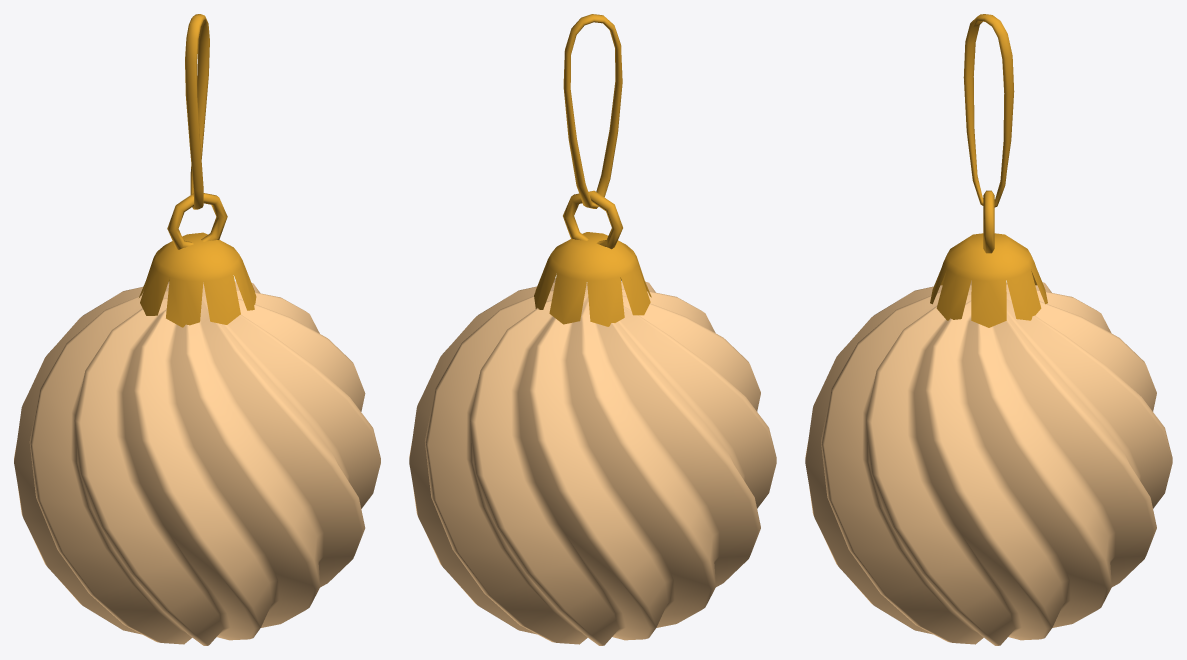
Rendered from Ball_Supporter.fbx.
3 views of the same model, side by side, from view 1: azimuth 30°, elevation 25°; view 2: azimuth 150°, elevation 25°; view 3: azimuth 270°, elevation 25° (orthographic).
Visible parts, largest first — view 1: Ball Supporter; view 2: Ball Supporter; view 3: Ball Supporter.
Boxes of the visible parts, x1,y1,x2,y2 form: Ball Supporter: (14,14,380,645); Ball Supporter: (409,14,776,645); Ball Supporter: (805,14,1172,645).
Size of the model in its own units: 4.85 by 8.98 by 4.85.
